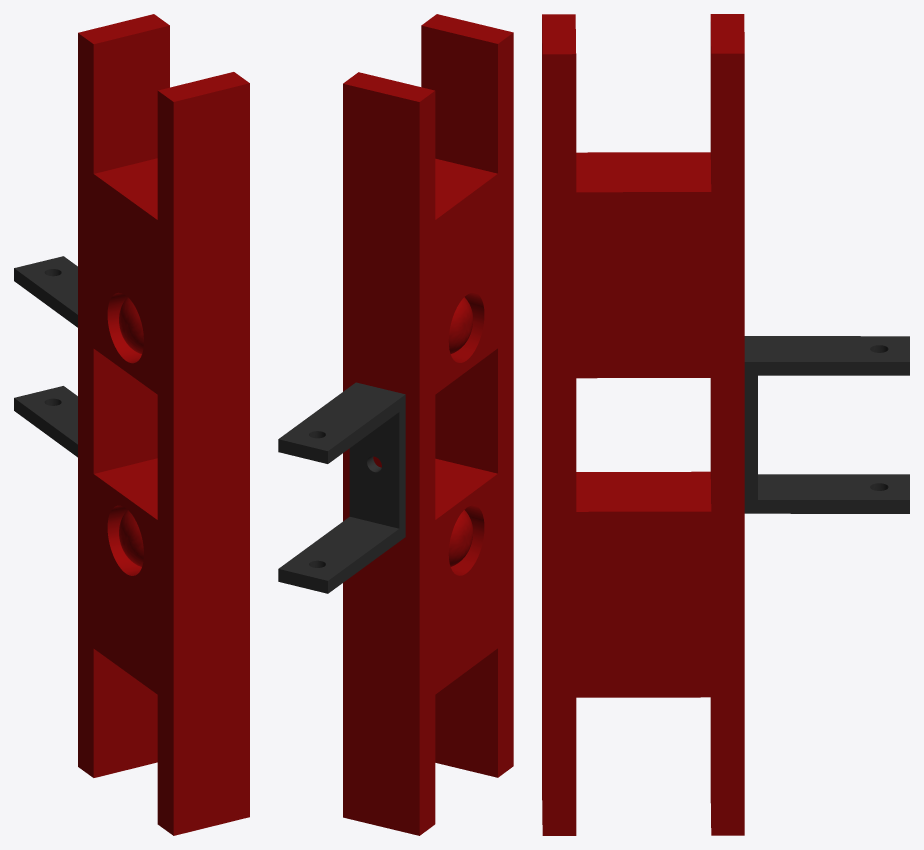
File: body.dae
3 renders of one model, left to right at view 1: azimuth 30°, elevation 25°; view 2: azimuth 150°, elevation 25°; view 3: azimuth 270°, elevation 25°, orthographic. The views are drawn at different scales.
Visible parts, largest first — view 1: vision; view 2: vision; view 3: vision.
Part boxes in pixels (x1=…): vision: x1=14, y1=14, x2=249, y2=835; vision: x1=278, y1=14, x2=513, y2=835; vision: x1=542, y1=14, x2=909, y2=835.
Size of the model in its own units: 0.0312 by 0.283 by 0.1207.
